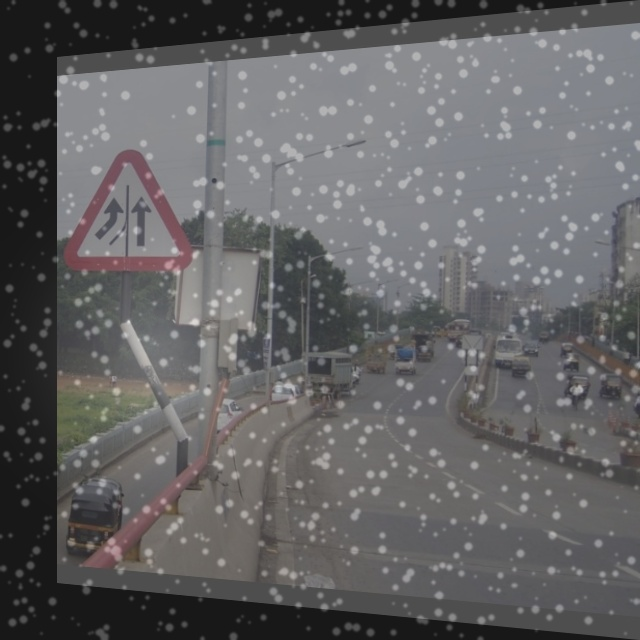Merge_Traffic_Ahead: (77, 137, 175, 280)
